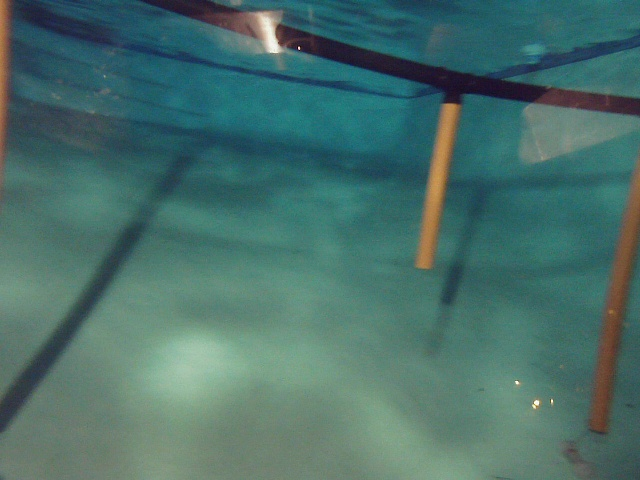Gate: (581, 167, 640, 433), (413, 98, 465, 273)
